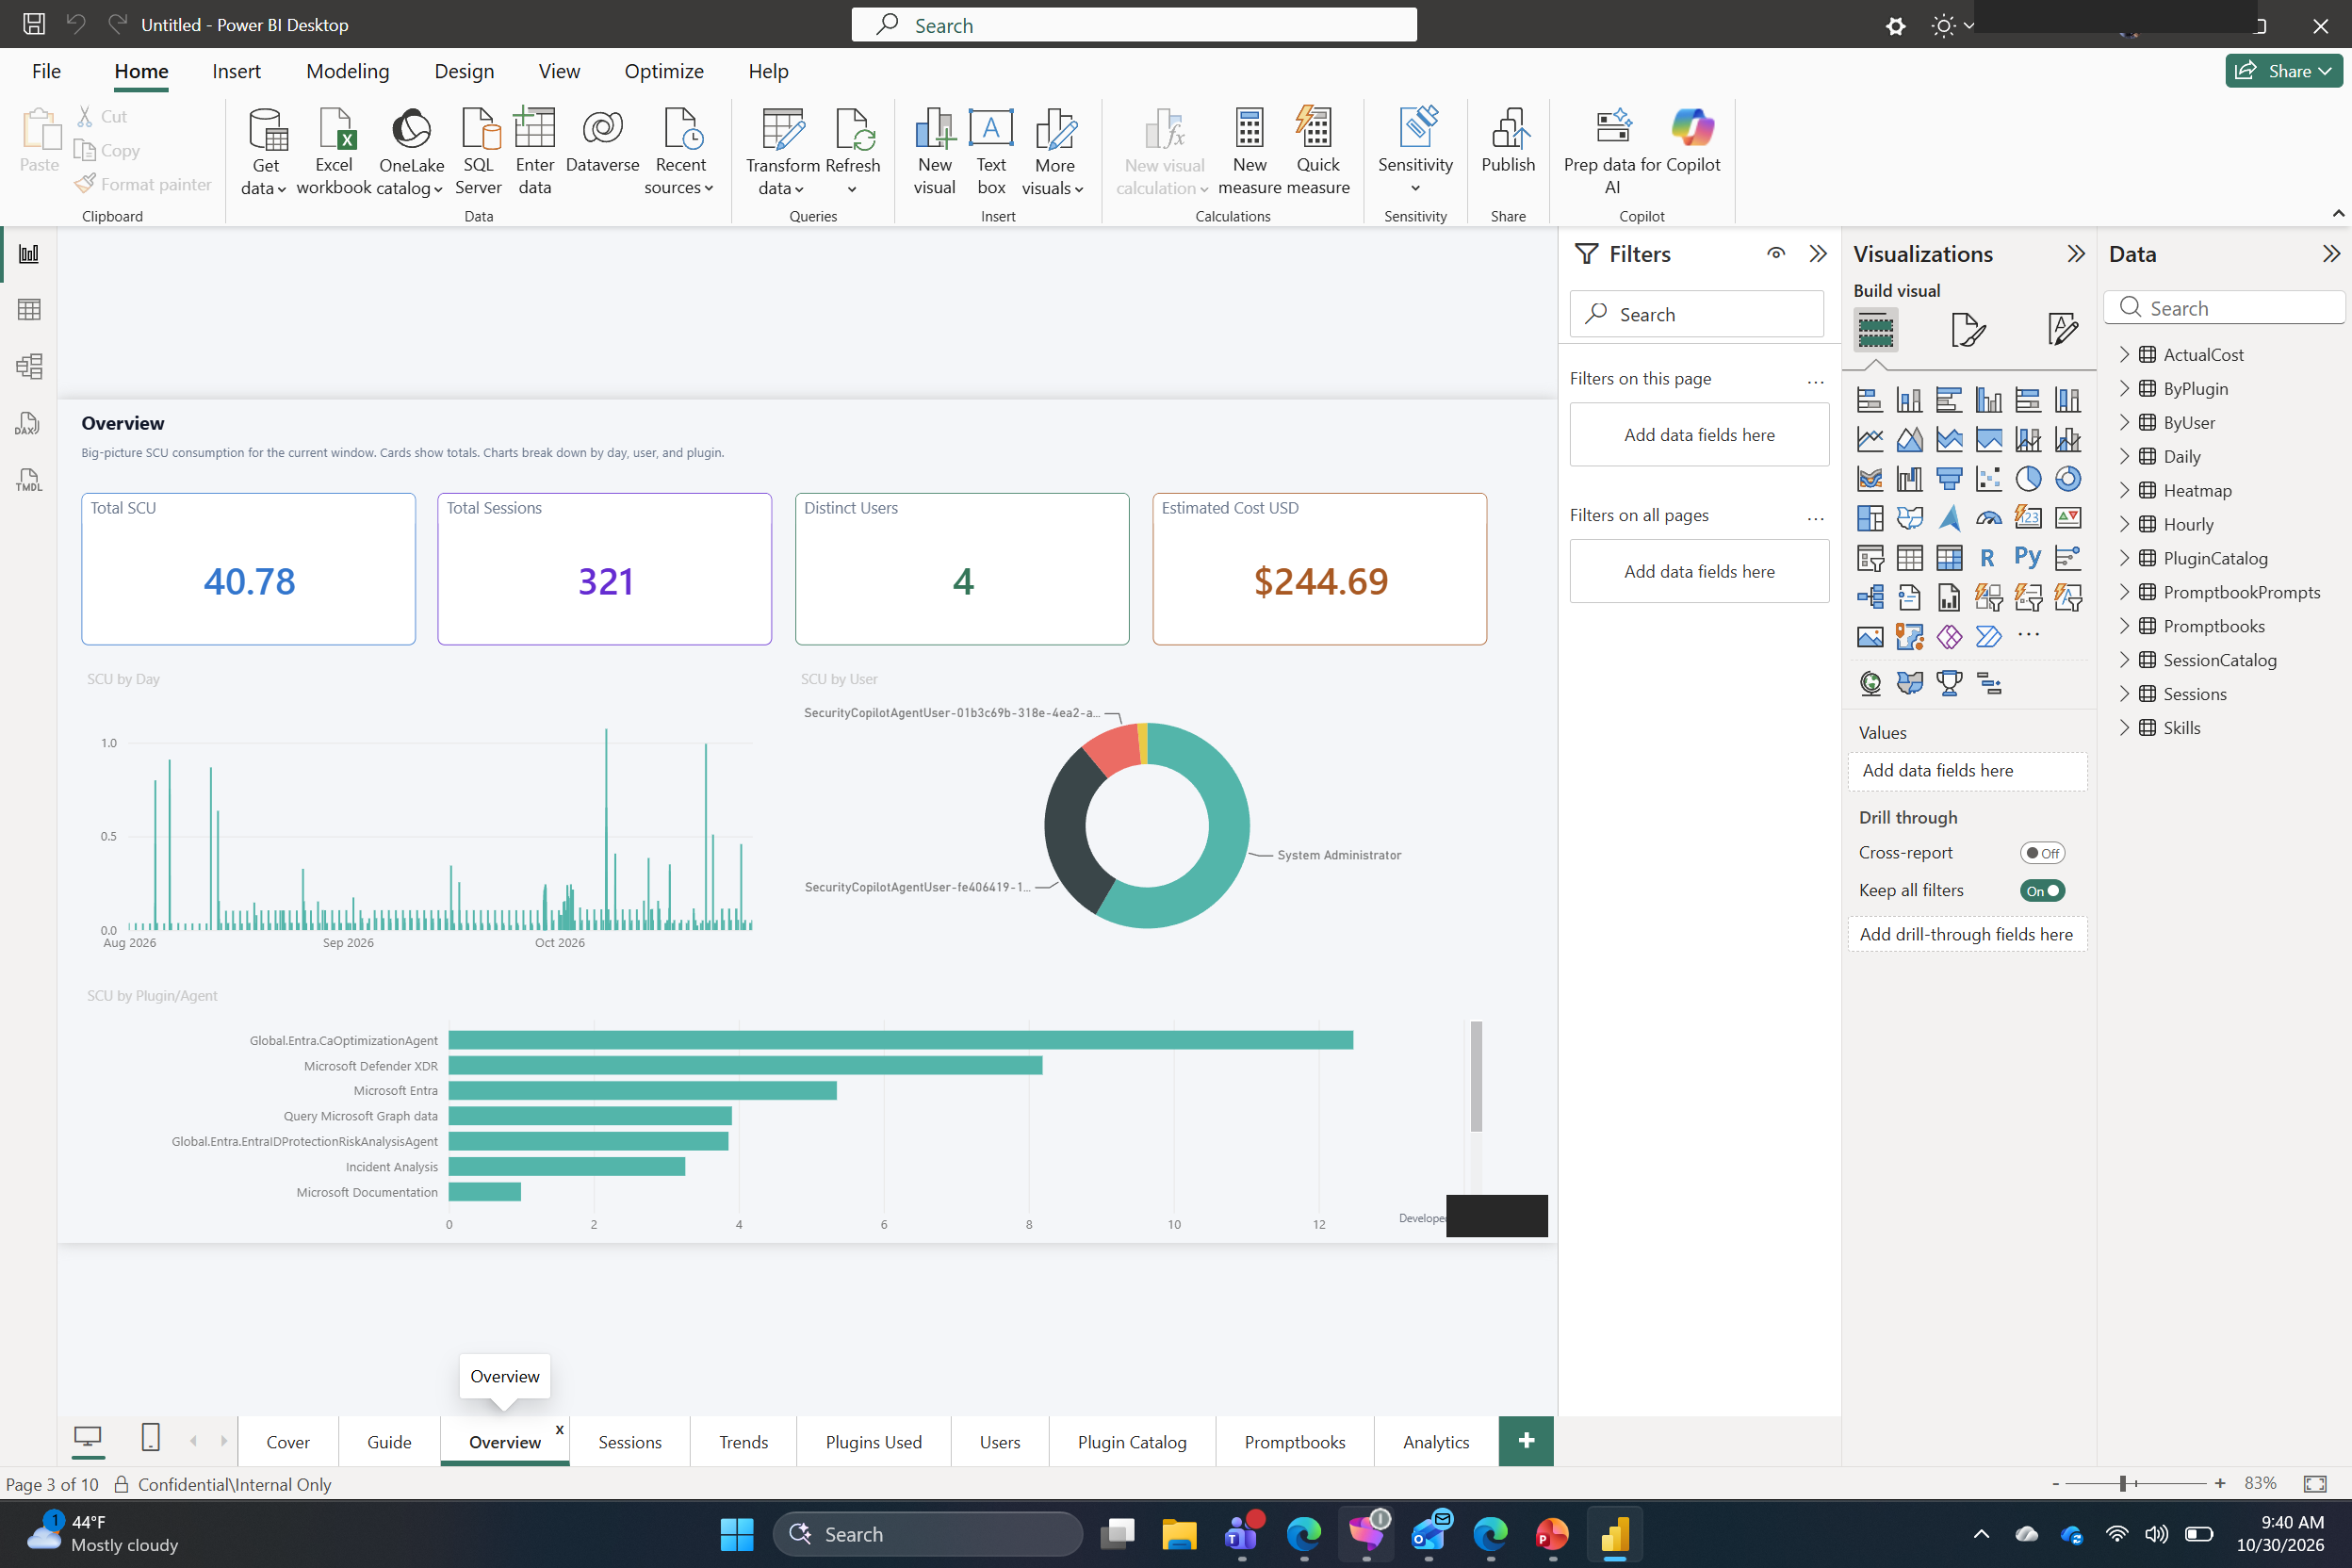

The page's visual inventory and layout, read from the dashboard file:
{"tool":"powerbi","page":{"name":"Overview","canvas":[1280,720],"ordinal":2},"visuals":[{"type":"textbox","box":[20,8,1240,32],"z":0},{"type":"textbox","box":[20,34,1240,24],"z":0},{"type":"card","title":"Total SCU","fields":{"Values":["Sessions.Total SCU"]},"box":[20,80,285,130],"z":0},{"type":"card","title":"Total Sessions","fields":{"Values":["Sessions.Total Sessions"]},"box":[325,80,285,130],"z":0},{"type":"card","title":"Distinct Users","fields":{"Values":["Sessions.Distinct Users"]},"box":[630,80,285,130],"z":0},{"type":"card","title":"Estimated Cost USD","fields":{"Values":["Sessions.Est Total Cost USD"]},"box":[935,80,285,130],"z":0},{"type":"columnChart","title":"SCU by Day","fields":{"Category":["Sessions.Date"],"Y":["Sessions.Total SCU"]},"box":[20,230,600,250],"z":0},{"type":"donutChart","title":"SCU by User","fields":{"Category":["Sessions.User"],"Y":["Sessions.Total SCU"]},"box":[630,230,600,250],"z":0},{"type":"barChart","title":"SCU by Plugin/Agent","fields":{"Category":["Sessions.Plugins"],"Y":["Sessions.Total SCU"]},"box":[20,500,1200,220],"z":0},{"type":"textbox","box":[1060,686,200,22],"z":0}]}

Visuals, with their boxes on the page's 1280x720 design canvas (x1, y1, x2, y2). These are canvas units, not pixel positions in the 2352x1568 screenshot, which may show the page scaled, cropped or inside an application window:
textbox: (20, 8, 1260, 40)
textbox: (20, 34, 1260, 58)
"Total SCU" card: (20, 80, 305, 210)
"Total Sessions" card: (325, 80, 610, 210)
"Distinct Users" card: (630, 80, 915, 210)
"Estimated Cost USD" card: (935, 80, 1220, 210)
"SCU by Day" columnChart: (20, 230, 620, 480)
"SCU by User" donutChart: (630, 230, 1230, 480)
"SCU by Plugin/Agent" barChart: (20, 500, 1220, 720)
textbox: (1060, 686, 1260, 708)
